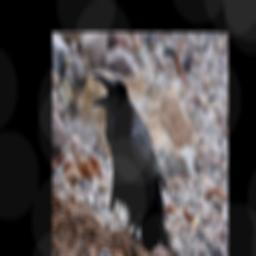Crow: (92, 74, 177, 256)
